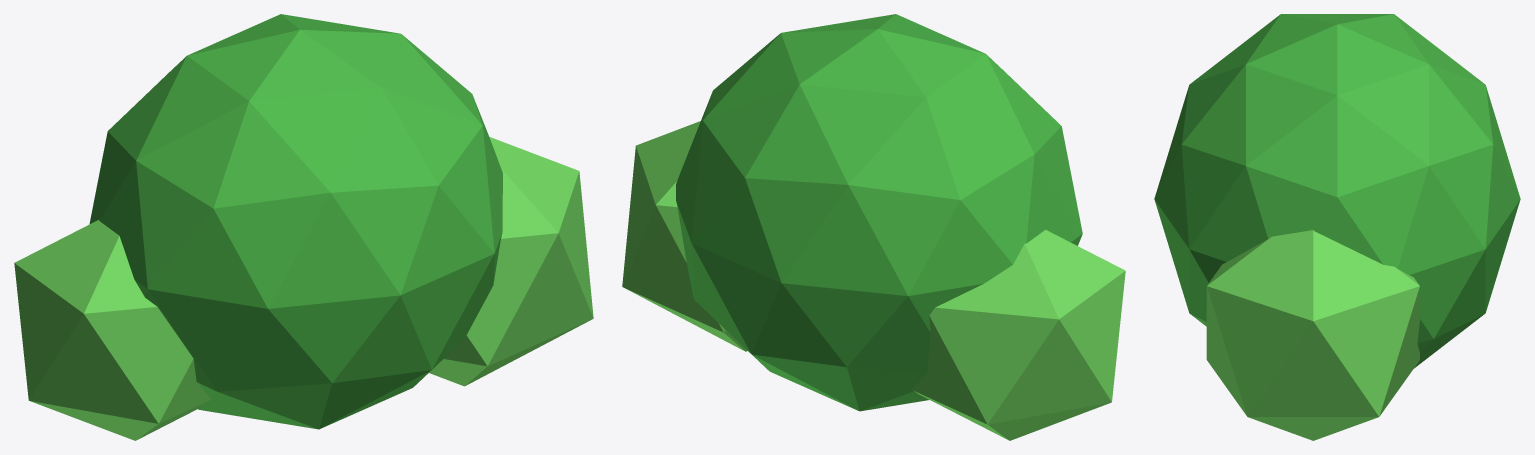
Rendered from bush.glb.
3 views of the same model, side by side, from view 1: azimuth 30°, elevation 25°; view 2: azimuth 150°, elevation 25°; view 3: azimuth 270°, elevation 25° (orthographic). The views are drawn at different scales.
Parts seen in each view (by area): view 1: bush; view 2: bush; view 3: bush.
Part boxes in pixels (bbox=[...]): bush: bbox=[14, 14, 593, 440]; bush: bbox=[622, 14, 1125, 440]; bush: bbox=[1154, 14, 1520, 440].
Size of the model in its own units: 1.14 by 0.8 by 0.76.
